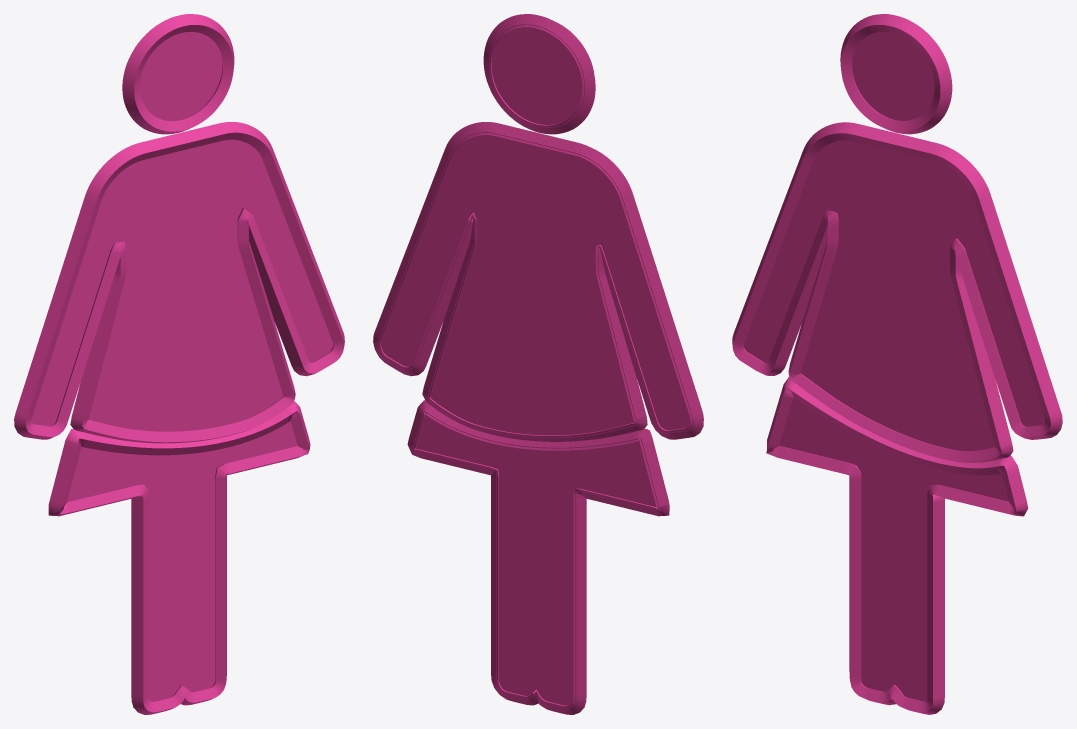
Rendered from girlB.glb.
The picture shows the model from 3 angles, left to right: view 1: azimuth 30°, elevation 25°; view 2: azimuth 150°, elevation 25°; view 3: azimuth 330°, elevation 25°; orthographic projection.
Visible parts, largest first — view 1: City-Icons.036_21; view 2: City-Icons.036_21; view 3: City-Icons.036_21.
Boxes of the visible parts, box(x1,y1,x2,y2) form: City-Icons.036_21: box(14, 14, 344, 714); City-Icons.036_21: box(373, 14, 703, 714); City-Icons.036_21: box(732, 14, 1062, 714).
Size of the model in its own units: 0.0794 by 0.1588 by 0.00359.
